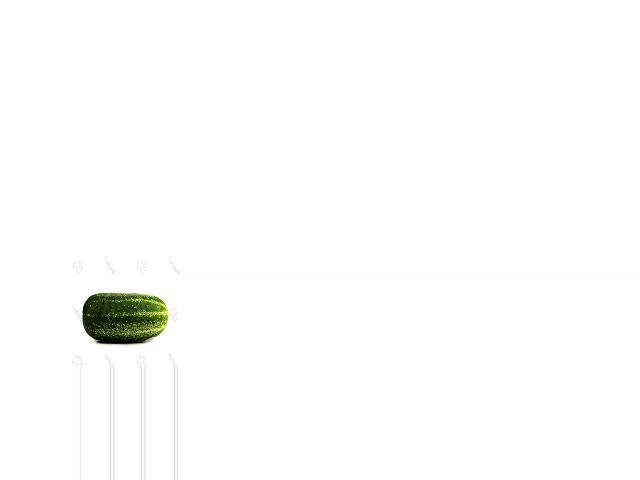cucumber: (81, 293, 167, 342)
